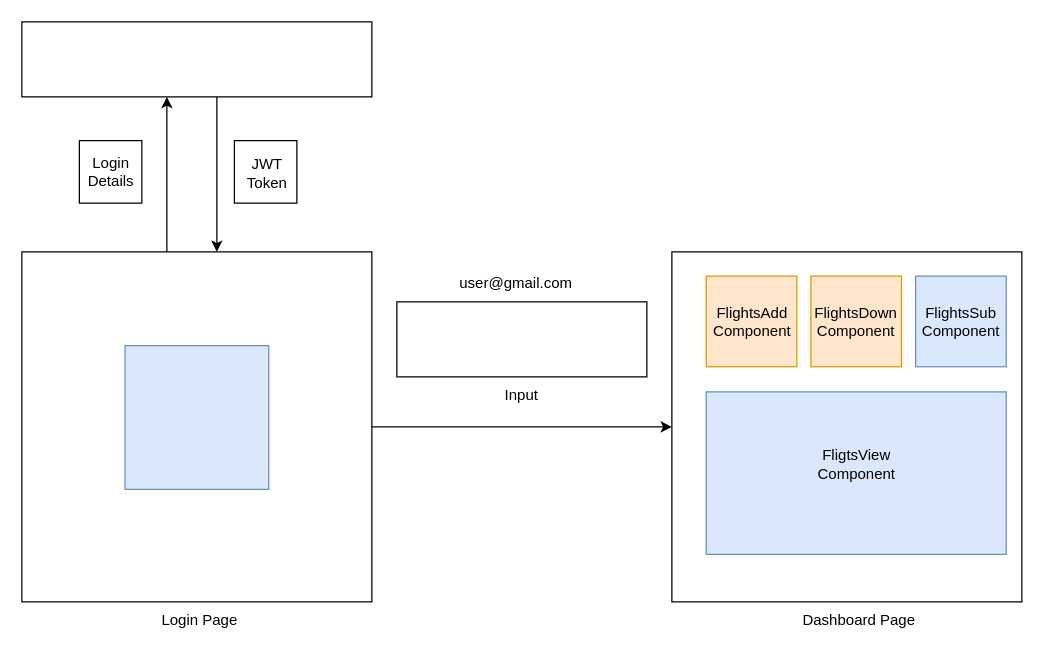
This 1044x661 diagram has some shape labels left out. The centre of each missing label's shape, as x and y in pixels:
Flights Login Service: the point at 196,59
hasFlightsAddPermision: true hasFlightsDownPermision: true: the point at 521,339
Login Component: the point at 196,416
